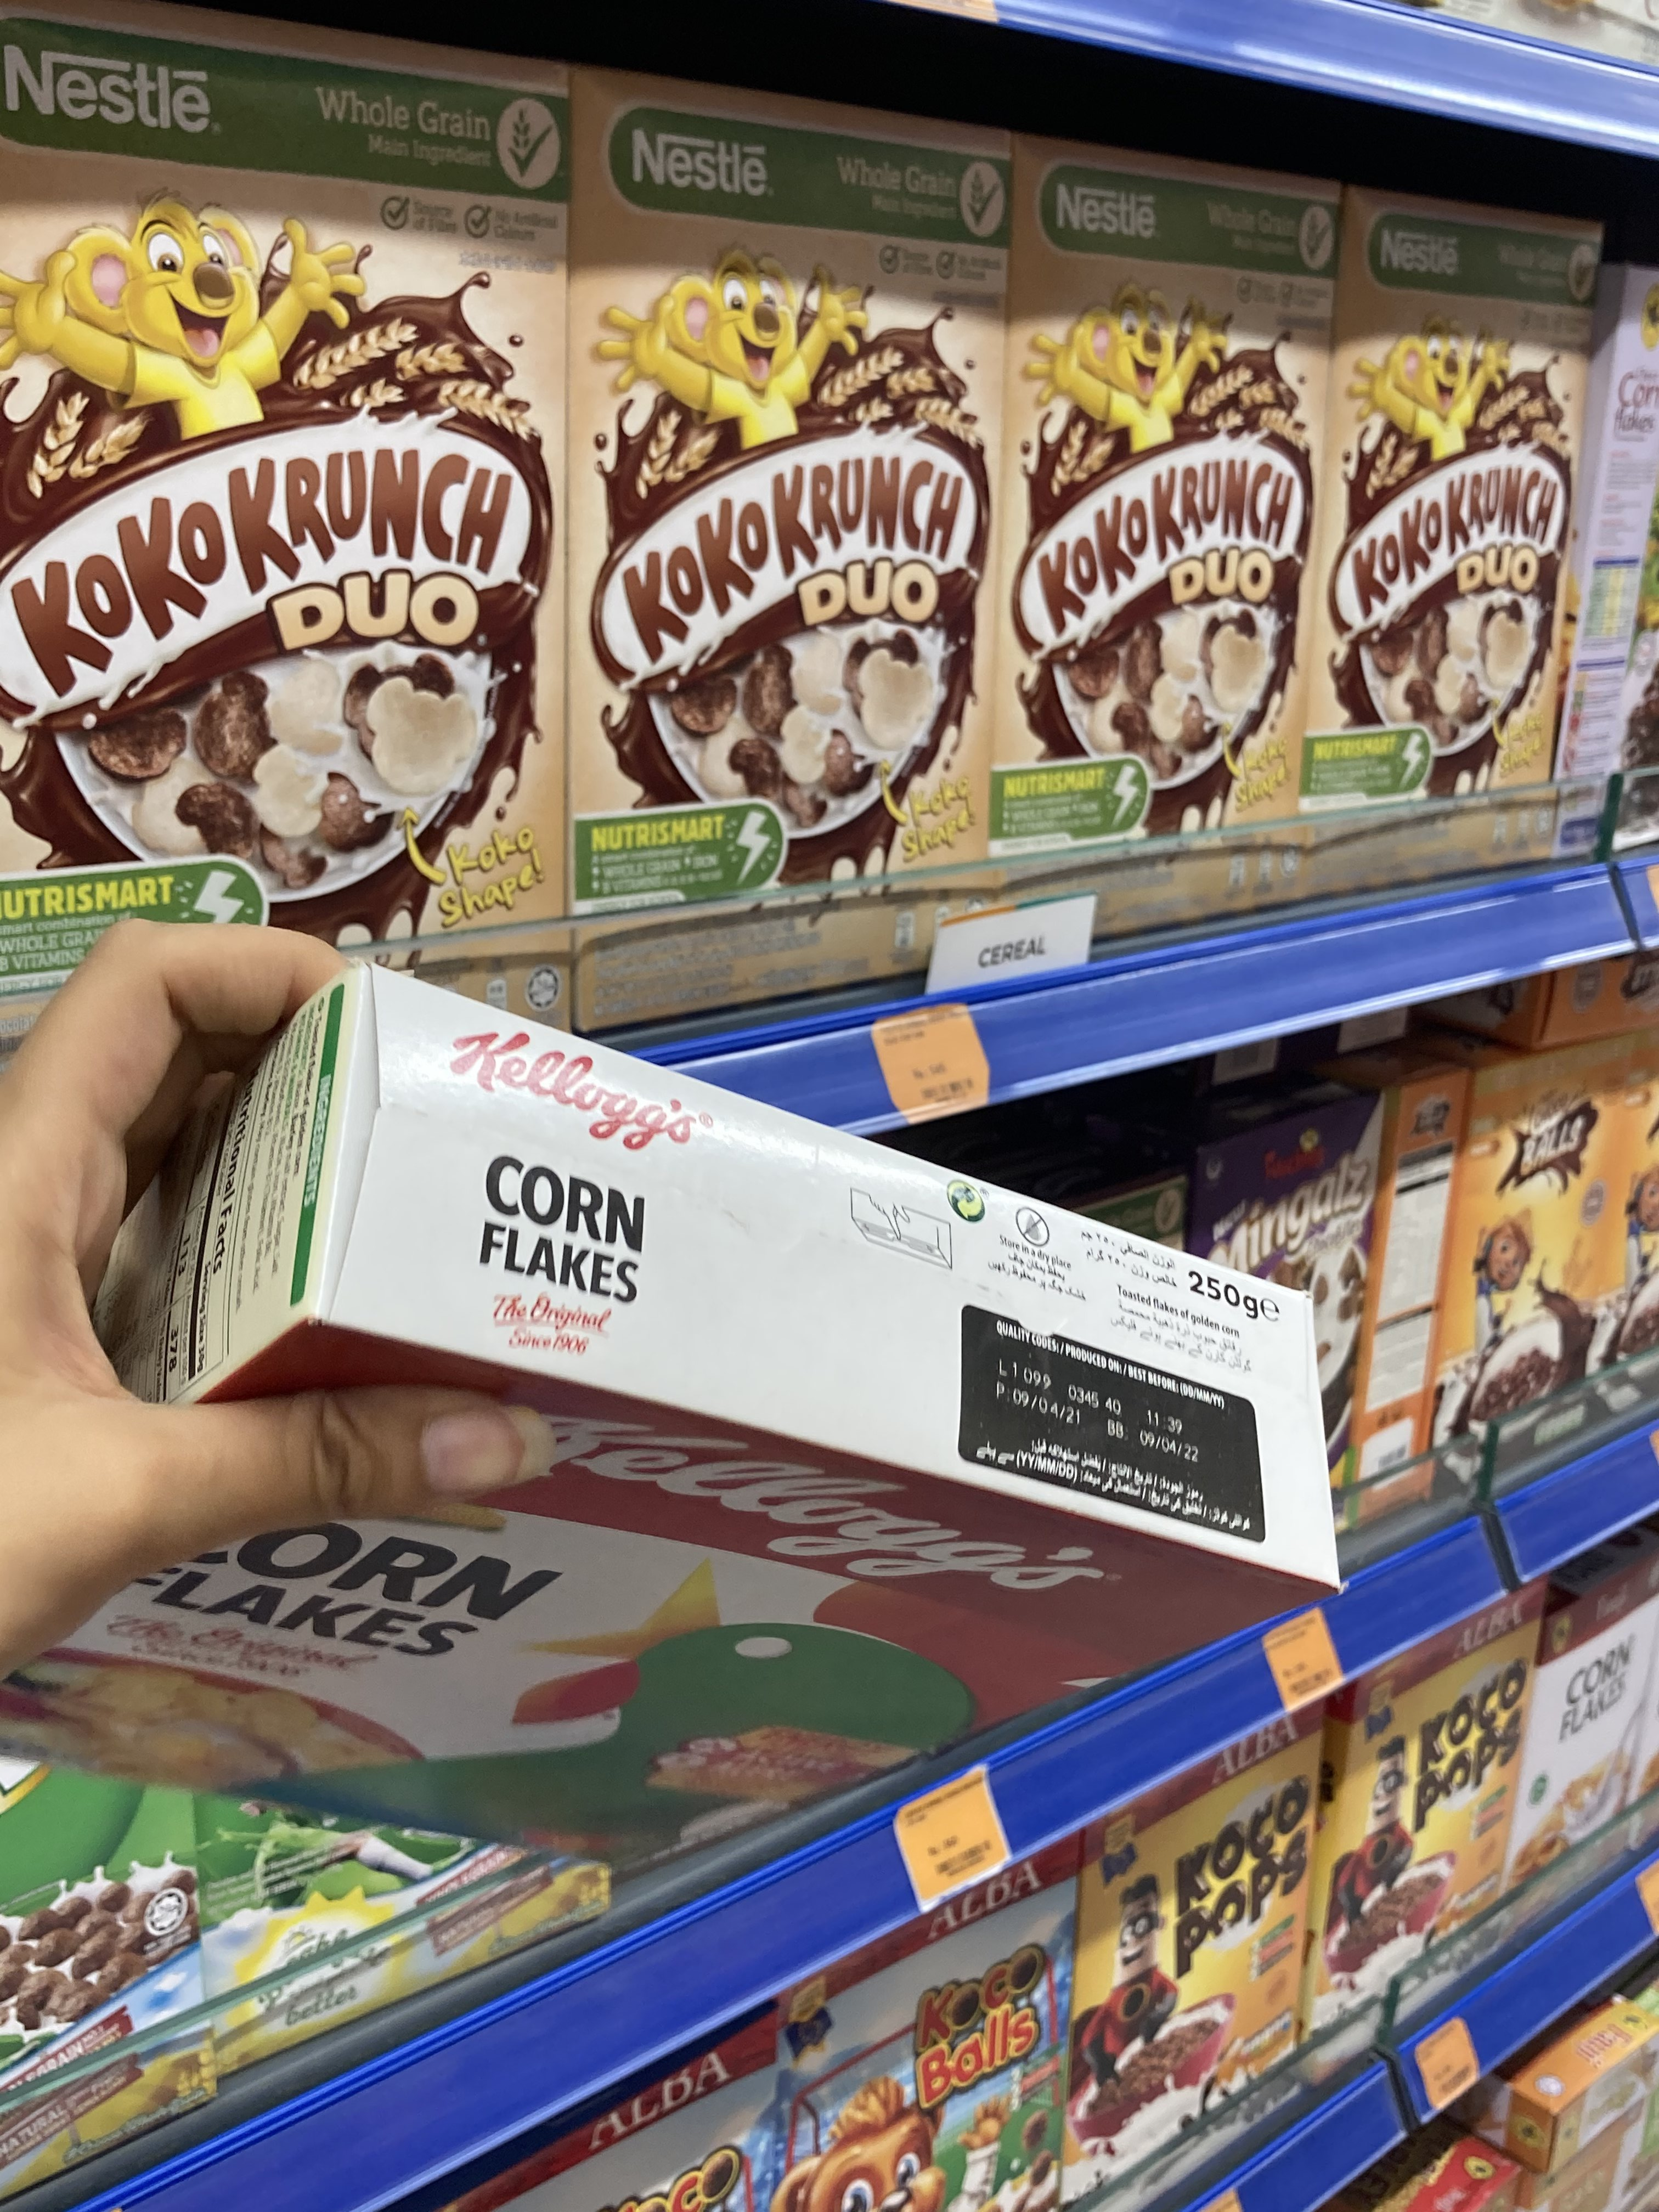Kellogg's Corn Flakes: (9, 975, 1349, 1871)
